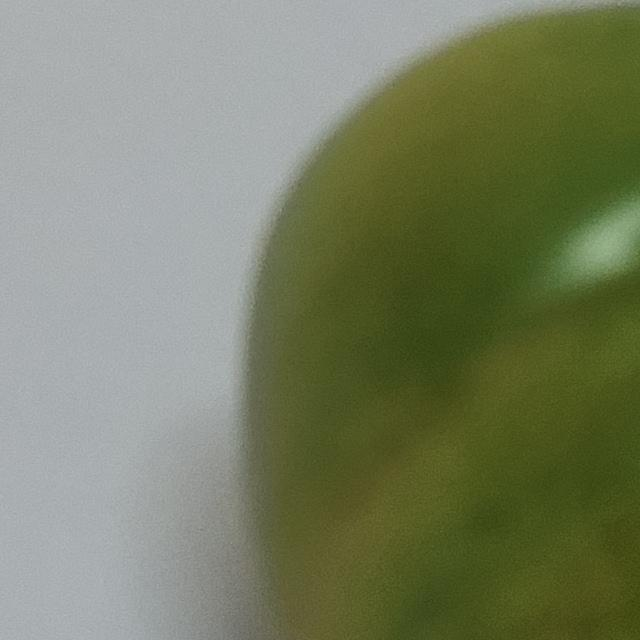tomato: (188, 0, 640, 640)
